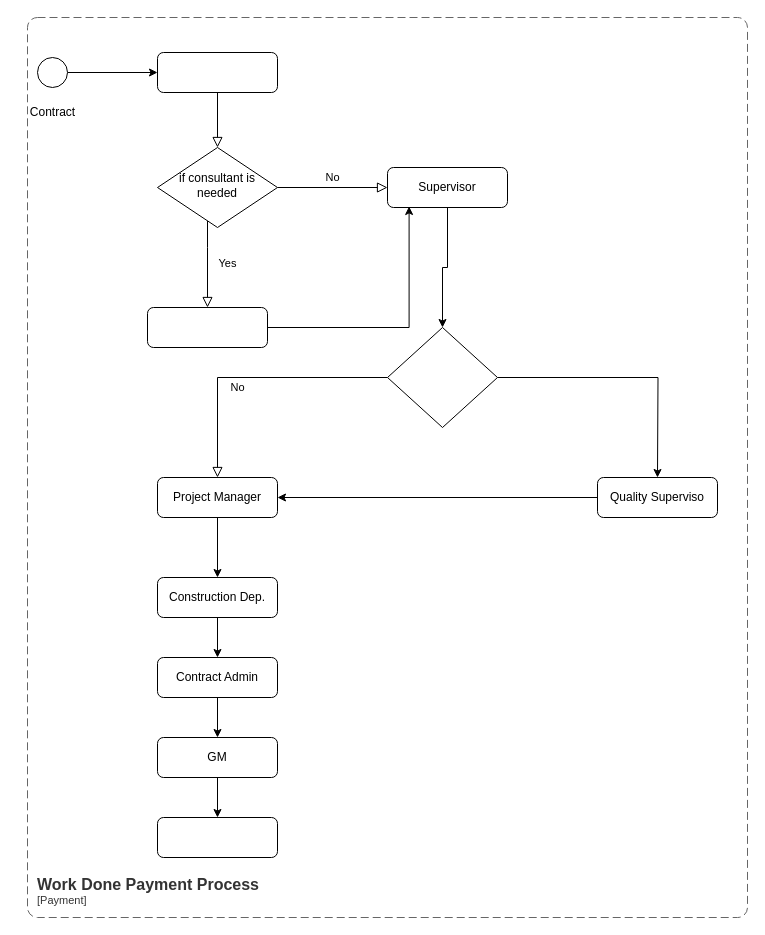
Some shapes in this 765 by 935 pixel diagram are drawn without their labels. The centre of each missing label's shape, as x and y in pixels:
"consultant" goes at point (207, 327).
"Contractor" goes at point (217, 72).
"Finance" goes at point (217, 837).
"if Quality Check is needed" goes at point (442, 377).
